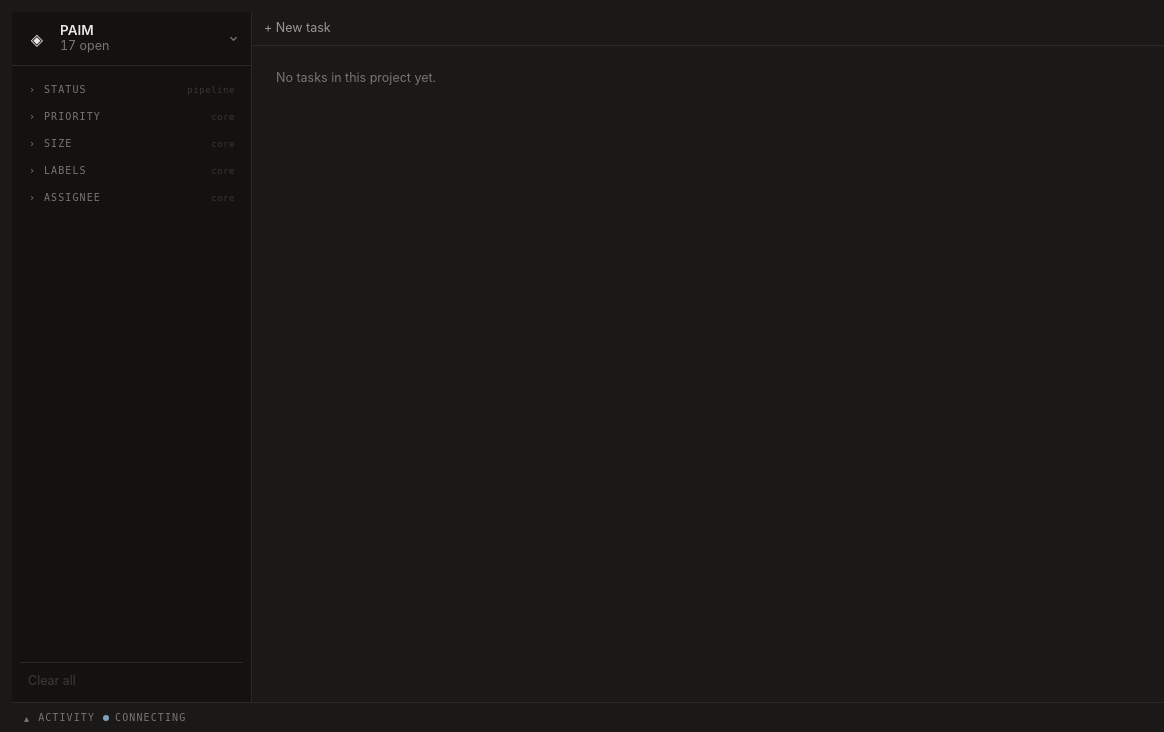
Test: workspace switcher › re-scopes the URL when the workspace changes
Click the button "◈ PAIM 17 open": (132, 39) left=12, top=12, right=251, bottom=66
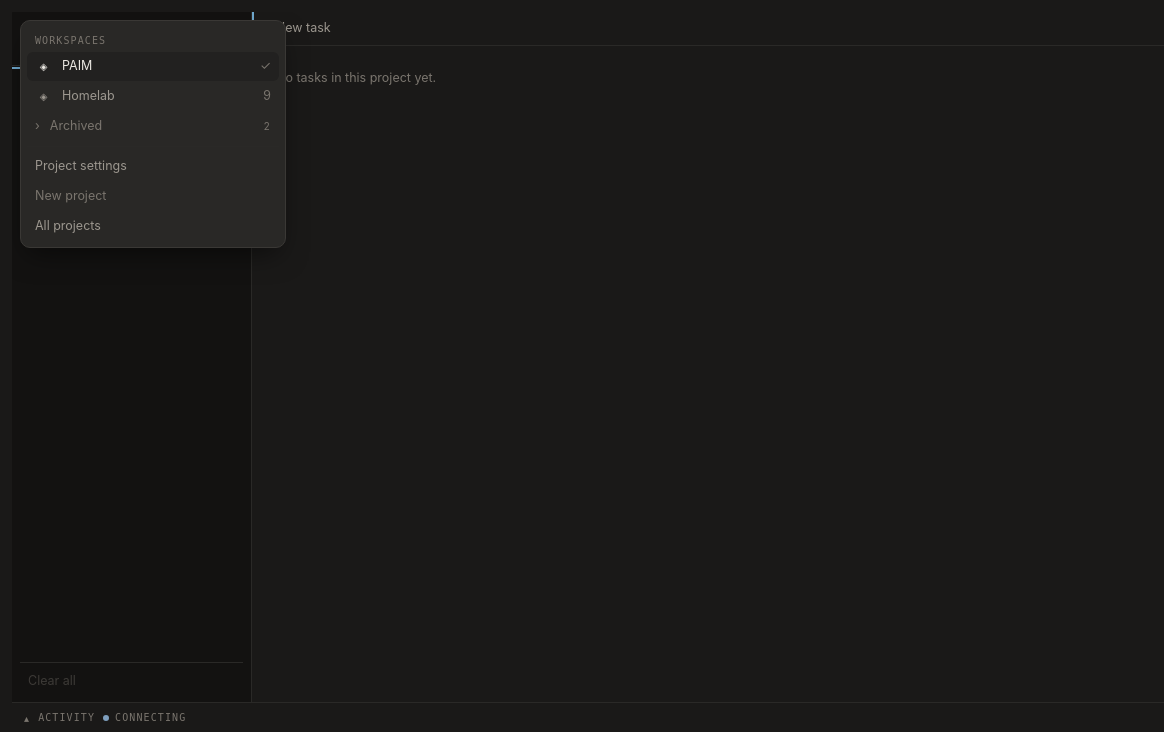
Click the menu item "◈ Homelab 9": (88, 96) left=40, top=88, right=271, bottom=103
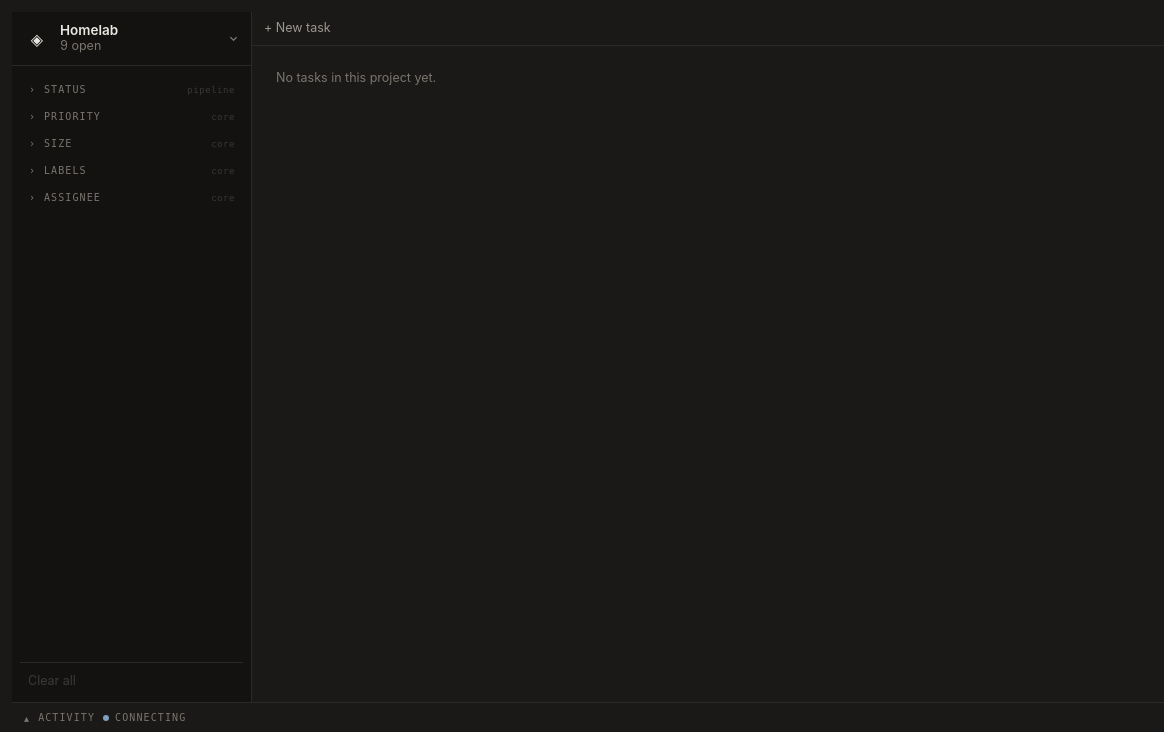
expect the button "◈ Homelab 9 open" is shown: met, box left=12, top=12, right=251, bottom=66
expect the text "Workspaces" is gone: met
